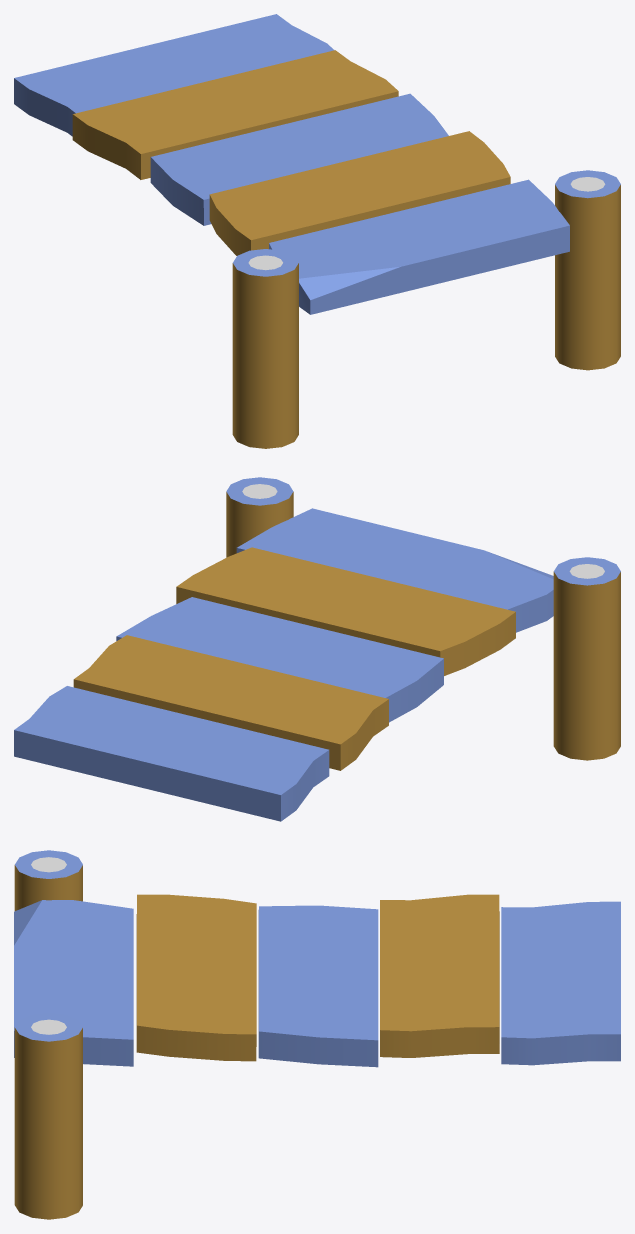
File: Pier.fbx
3 renders of one model, top to bottom at view 1: azimuth 30°, elevation 25°; view 2: azimuth 150°, elevation 25°; view 3: azimuth 270°, elevation 25°, orthographic. The views are drawn at different scales.
Visible parts, largest first — view 1: Cube.043; view 2: Cube.043; view 3: Cube.043.
Boxes of the visible parts, left/top/right/bottom form: Cube.043: left=14, top=14, right=620, bottom=448; Cube.043: left=14, top=477, right=620, bottom=821; Cube.043: left=14, top=850, right=620, bottom=1219.
Bounding box in the file's own units: 379 × 164 × 507.
